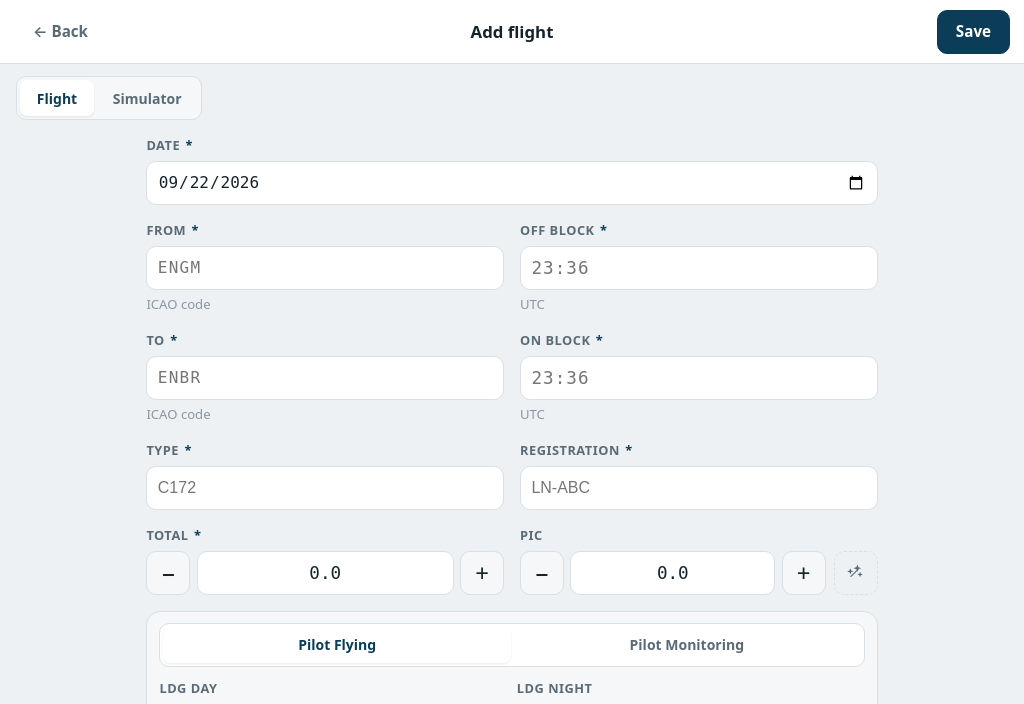
Test: the 24-hour clock › says what it cannot read, while it is being typed
Type "99:99" into the field with id "f-offBlock" at (699, 268), box [520, 246, 878, 290]
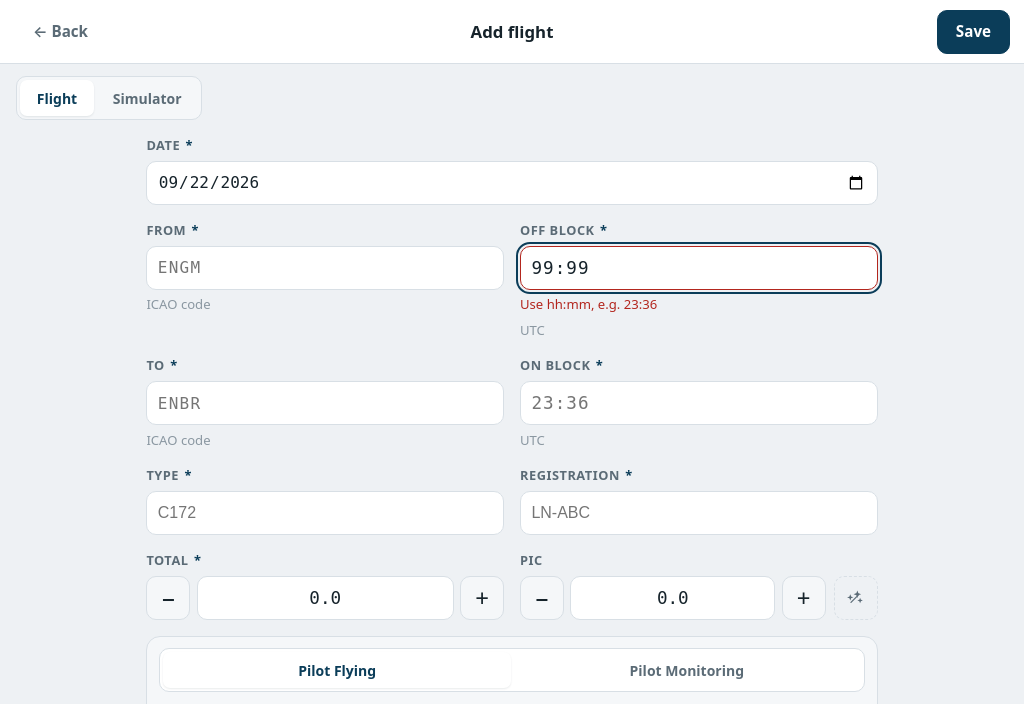
Expected: the element with id "f-offBlock" shows "Use hh:mm", [520, 295, 657, 313]
